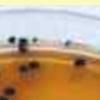black: (72, 56, 88, 68), (27, 59, 42, 71), (2, 86, 18, 97), (17, 63, 31, 73), (7, 34, 17, 45), (61, 39, 72, 48), (18, 36, 29, 44), (17, 47, 28, 55), (31, 36, 39, 44), (18, 43, 28, 49), (0, 95, 10, 100)
